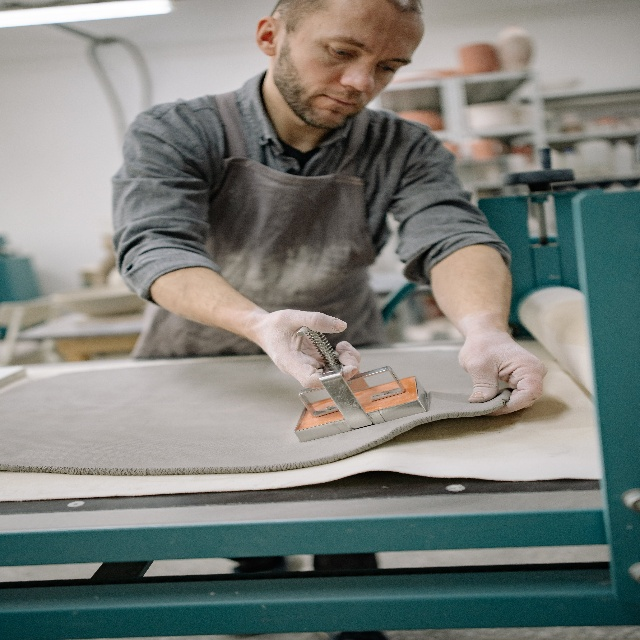Sin_guantes: (256, 308, 360, 390), (458, 327, 549, 418)
